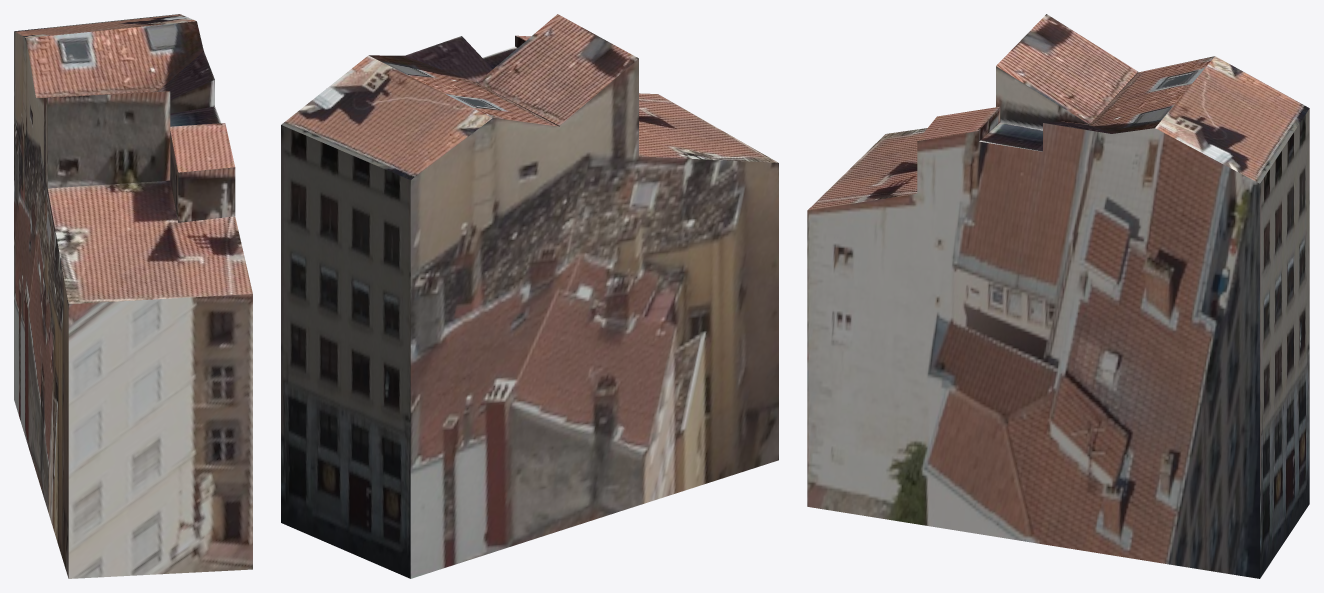
3 renders of one model, left to right at view 1: azimuth 30°, elevation 25°; view 2: azimuth 150°, elevation 25°; view 3: azimuth 270°, elevation 25°, orthographic. The views are drawn at different scales.
Parts seen in each view (by area): view 1: Z_UP; view 2: Z_UP; view 3: Z_UP.
Part boxes in pixels (x1,y1,x2,y2): Z_UP: (14, 14, 252, 578); Z_UP: (281, 14, 778, 578); Z_UP: (807, 14, 1309, 578).
Size of the model in its own units: 16.11 by 22.24 by 22.83.
2 materials, 1 textured.
